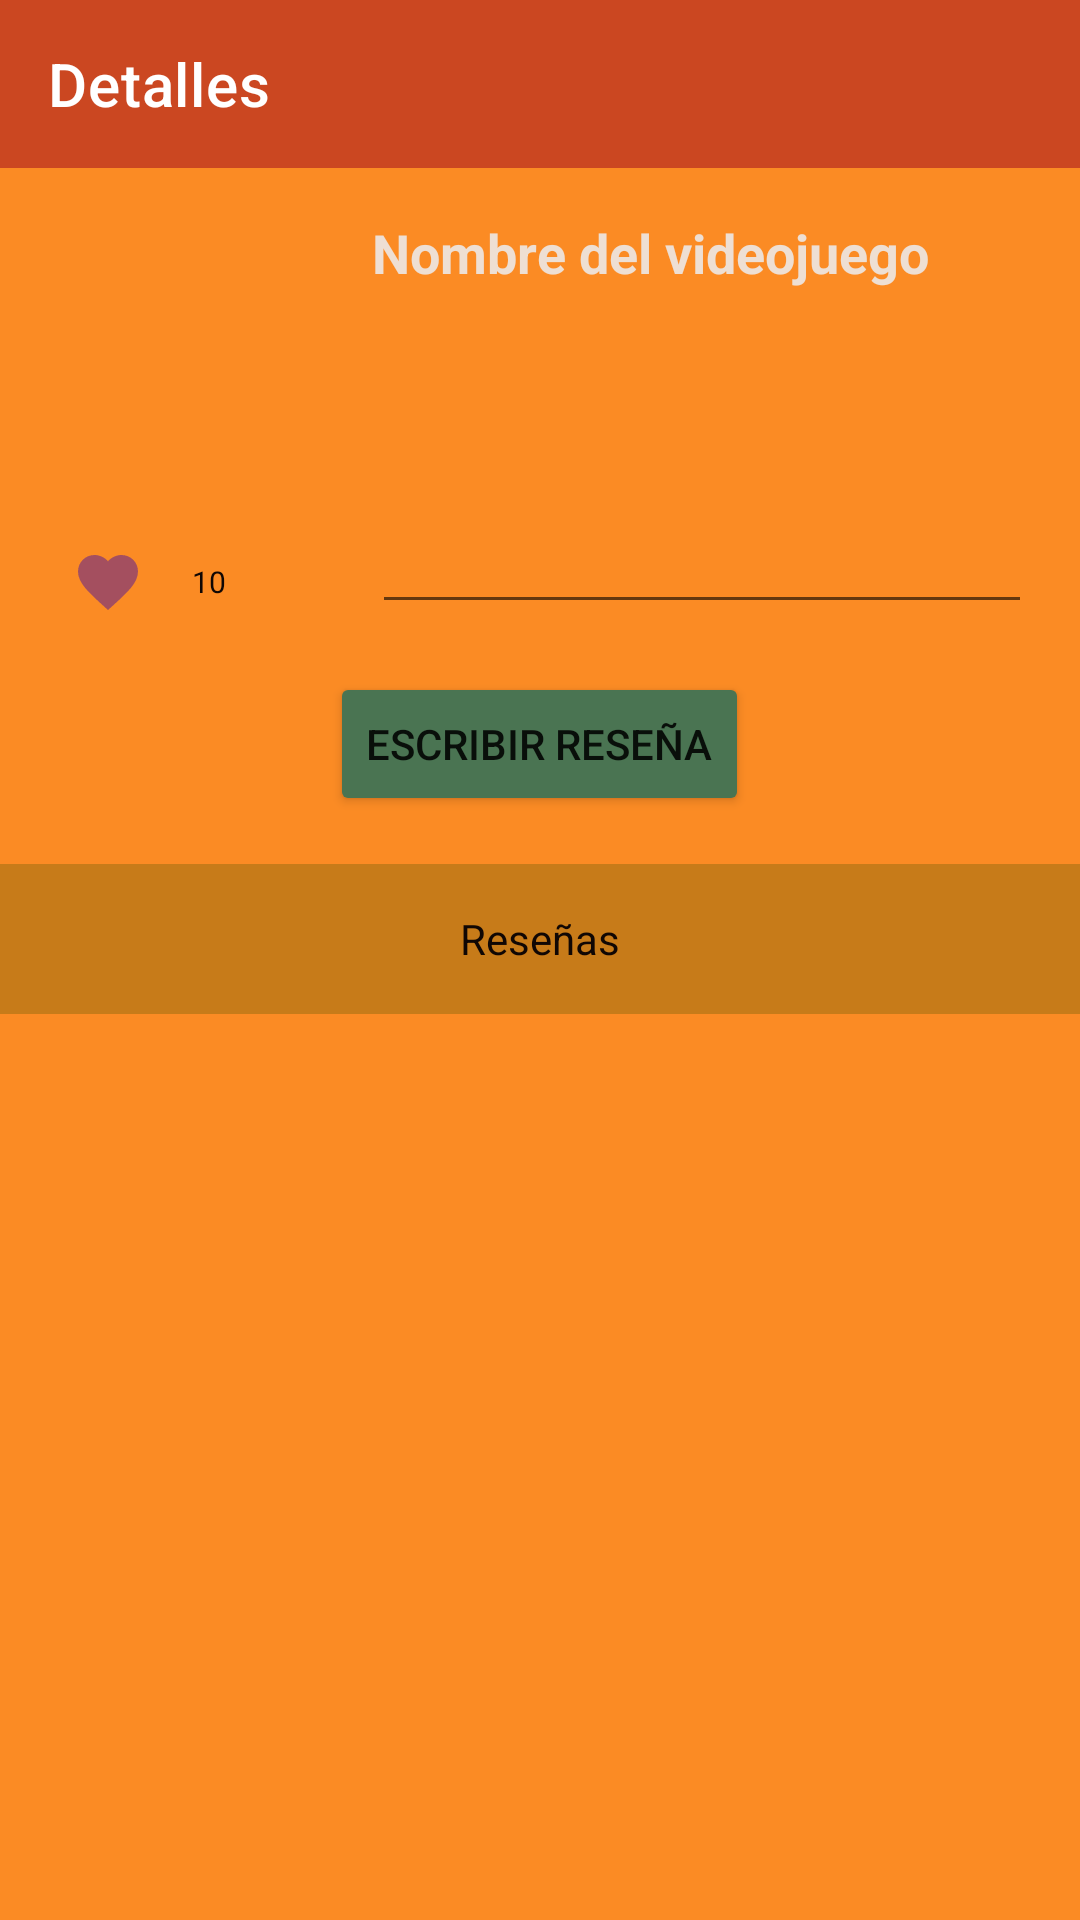

Where to tap for icons on this 1080px x 1920px app screen, as [x,y]:
favorite: [108,582]
